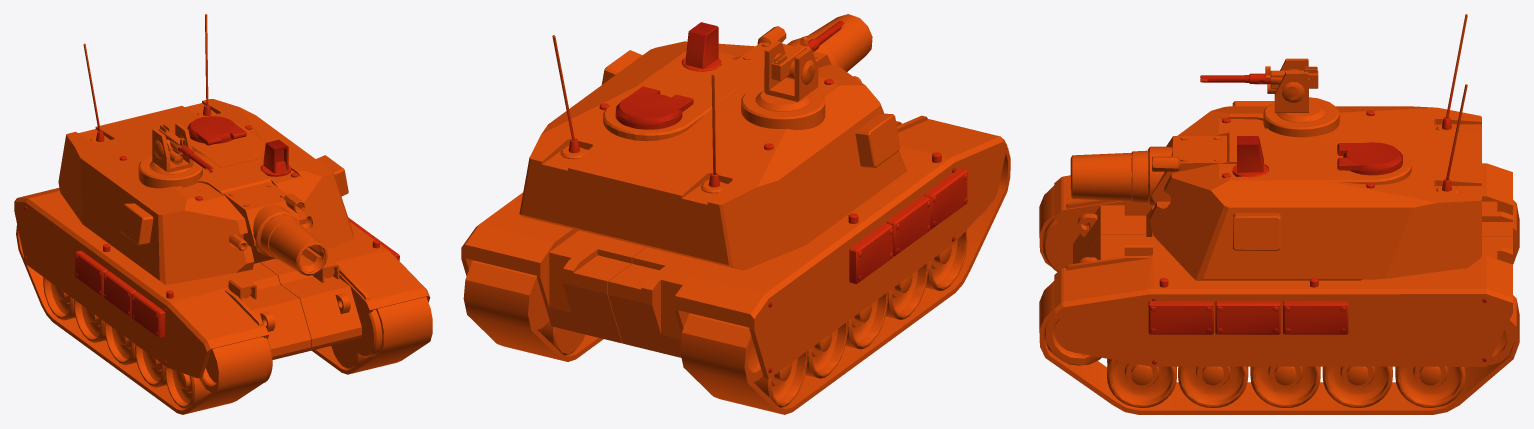
The model's file is WbMdTankRigged.fbx.
3 views of the same model, side by side, from view 1: azimuth 30°, elevation 25°; view 2: azimuth 150°, elevation 25°; view 3: azimuth 270°, elevation 25° (orthographic). The views are drawn at different scales.
Visible parts, largest first — view 1: Body, TurretMain, BarrelCannon, Wheel.021, Wheel.017, Wheel.019, Wheel.018, Wheel.020, BarrelMachineGun, Wheel.012, WheelFixed.007; view 2: Body, TurretMain, BarrelCannon, Wheel.017, Wheel.021, Wheel.018, Wheel.020, Wheel.019, BarrelMachineGun, Wheel.016, WheelFixed.005; view 3: Body, TurretMain, BarrelCannon, Wheel.012, Wheel.014, Wheel.013, Wheel.015, Wheel.016, BarrelMachineGun, WheelFixed.004, WheelFixed.005.
Boxes of the visible parts, x1,y1,x2,y2 form: Body: [14, 188, 432, 414]; TurretMain: [58, 14, 353, 284]; BarrelCannon: [223, 181, 327, 275]; Wheel.021: [165, 366, 210, 409]; Wheel.017: [43, 277, 75, 320]; Wheel.019: [104, 322, 136, 365]; Wheel.018: [74, 300, 105, 342]; Wheel.020: [135, 344, 166, 387]; BarrelMachineGun: [158, 124, 213, 172]; Wheel.012: [331, 341, 368, 369]; WheelFixed.007: [199, 351, 216, 392]; Body: [461, 115, 1010, 414]; TurretMain: [519, 22, 906, 270]; BarrelCannon: [736, 14, 872, 71]; Wheel.017: [754, 351, 807, 407]; Wheel.021: [925, 230, 967, 290]; Wheel.018: [805, 322, 847, 378]; Wheel.020: [885, 263, 927, 319]; Wheel.019: [845, 293, 887, 349]; BarrelMachineGun: [771, 21, 844, 81]; Wheel.016: [537, 320, 585, 355]; WheelFixed.005: [530, 281, 549, 329]; Body: [1039, 163, 1519, 414]; TurretMain: [1149, 14, 1481, 280]; BarrelCannon: [1070, 135, 1226, 205]; Wheel.012: [1106, 358, 1176, 407]; Wheel.014: [1250, 366, 1320, 407]; Wheel.013: [1178, 366, 1248, 407]; Wheel.015: [1322, 366, 1392, 407]; Wheel.016: [1395, 366, 1465, 407]; BarrelMachineGun: [1200, 66, 1318, 93]; WheelFixed.004: [1044, 314, 1101, 365]; WheelFixed.005: [1488, 324, 1514, 364].
Size of the model in its own units: 0.677 by 0.6838 by 0.9789.
